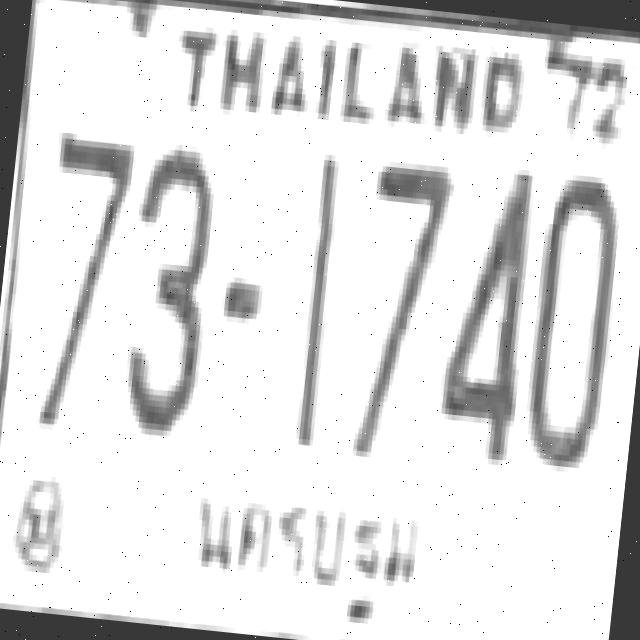0: (516, 168, 624, 466)
1: (288, 153, 344, 446)
3: (114, 138, 220, 436)
4: (429, 157, 537, 460)
7: (26, 126, 137, 430), (345, 154, 453, 456), (36, 126, 137, 333), (354, 154, 452, 366)
NakhonPathom: (175, 470, 431, 608)
